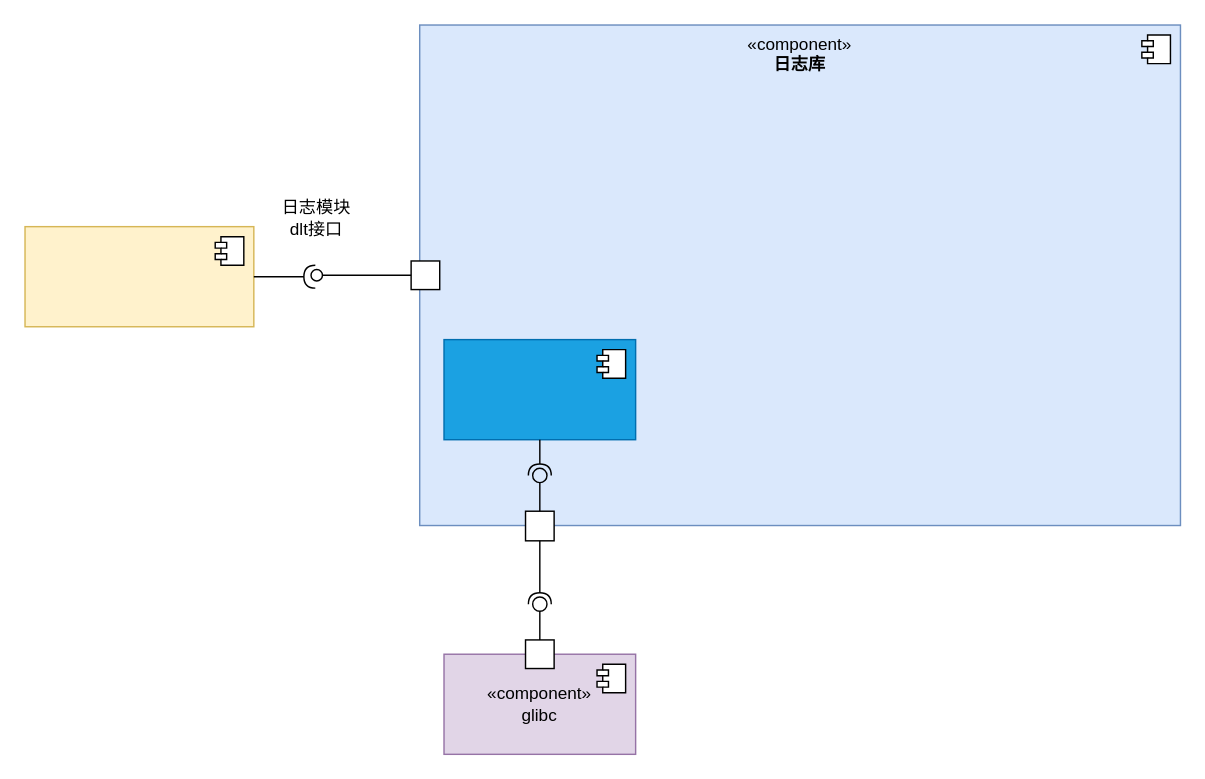
This 1205x779 diagram has some shape labels left out. Here are the shapes that lost their labels. From the top down, the centre of each, then its label:
point 139,276: «component» 应用程序
point 539,389: «component» 日志器
